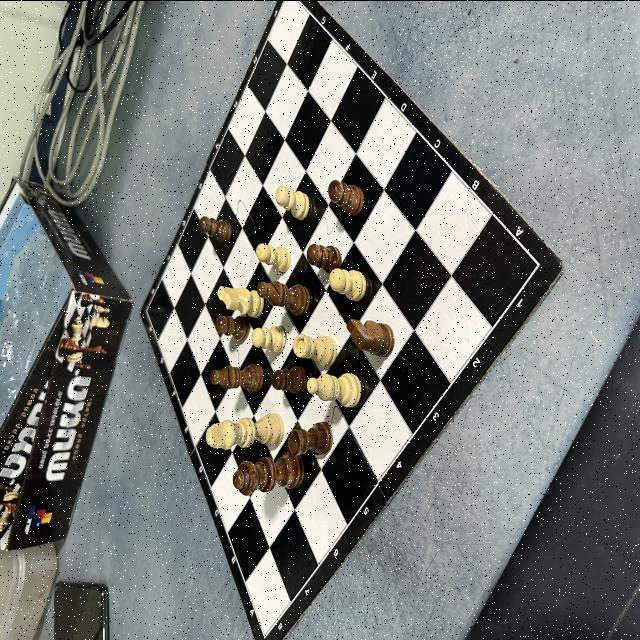Black-Bishop: (256, 280, 310, 316), (210, 361, 264, 393)
Black-Knight: (346, 316, 395, 358)
Black-Pawn: (328, 178, 364, 216), (271, 364, 307, 394), (306, 242, 341, 272), (214, 314, 250, 341), (198, 215, 232, 242)
Black-Queen: (232, 454, 306, 495)
Black-Rook: (287, 420, 333, 456)
White-Bishop: (306, 371, 362, 407)
White-King: (206, 411, 285, 449)
White-Knight: (217, 284, 265, 318)
White-Pawn: (328, 267, 366, 301), (275, 184, 310, 220), (256, 241, 292, 272), (251, 323, 287, 352)
White-Rook: (292, 332, 338, 368)
